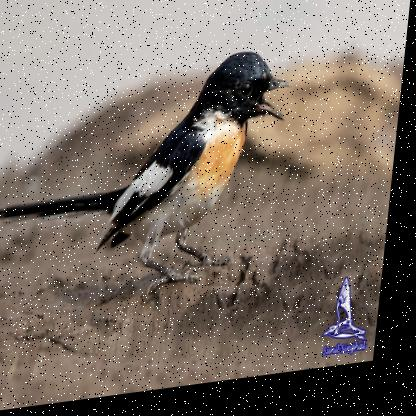Burung: (0, 53, 295, 317)
